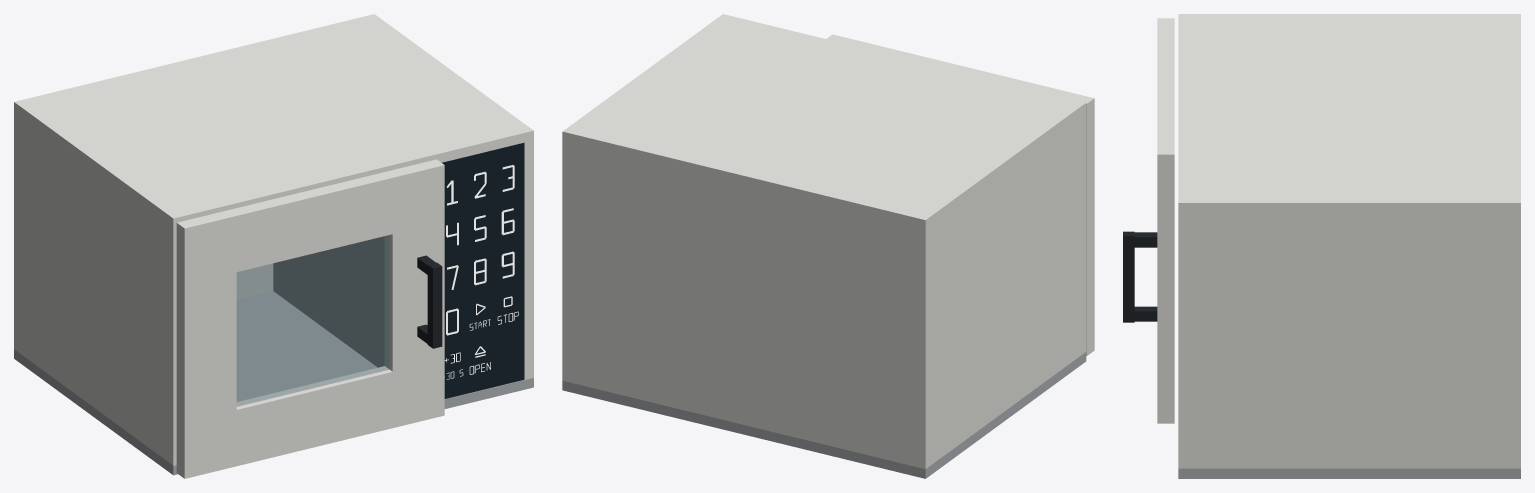
3 views of the same model, side by side, from view 1: azimuth 30°, elevation 25°; view 2: azimuth 150°, elevation 25°; view 3: azimuth 270°, elevation 25° (orthographic). The views are drawn at different scales.
Visible parts, largest first — view 1: case_top, case_left, door_window, touch_panel, door_frame_left, cavity_floor, door_frame_right_inner, door_frame_top, door_frame_bottom, cavity_divider, door_frame_right, case_right (+2 smaller); view 2: case_back, case_top, case_left, cavity_floor, door_frame_left, case_right, door_frame_top; view 3: case_right, case_top, door_frame_right, cavity_floor, door_frame_top, door_handle, door_frame_left.
Boxes of the visible parts, <box> form: case_top: <box>14,14,533,228</box>; case_left: <box>14,112,176,465</box>; door_window: <box>237,235,389,406</box>; touch_panel: <box>442,143,524,398</box>; door_frame_left: <box>176,210,236,478</box>; cavity_floor: <box>14,291,533,475</box>; door_frame_right_inner: <box>384,162,430,427</box>; door_frame_top: <box>229,172,392,271</box>; door_frame_bottom: <box>236,366,392,465</box>; cavity_divider: <box>273,236,384,367</box>; door_frame_right: <box>423,159,444,418</box>; case_right: <box>524,140,533,379</box>; case_back: <box>571,143,916,466</box>; case_top: <box>562,14,1086,229</box>; case_left: <box>916,112,1086,469</box>; cavity_floor: <box>562,352,1086,478</box>; door_frame_left: <box>1036,85,1094,356</box>; case_right: <box>562,141,571,382</box>; door_frame_top: <box>879,47,1041,89</box>; case_right: <box>1178,213,1520,468</box>; case_top: <box>1178,14,1520,213</box>; door_frame_right: <box>1157,147,1174,423</box>; cavity_floor: <box>1178,468,1520,478</box>; door_frame_top: <box>1157,45,1174,127</box>; door_handle: <box>1123,231,1134,322</box>; door_frame_left: <box>1157,18,1174,45</box>.
Bounding box in the file's own units: 0.47 × 0.32 × 0.418.
